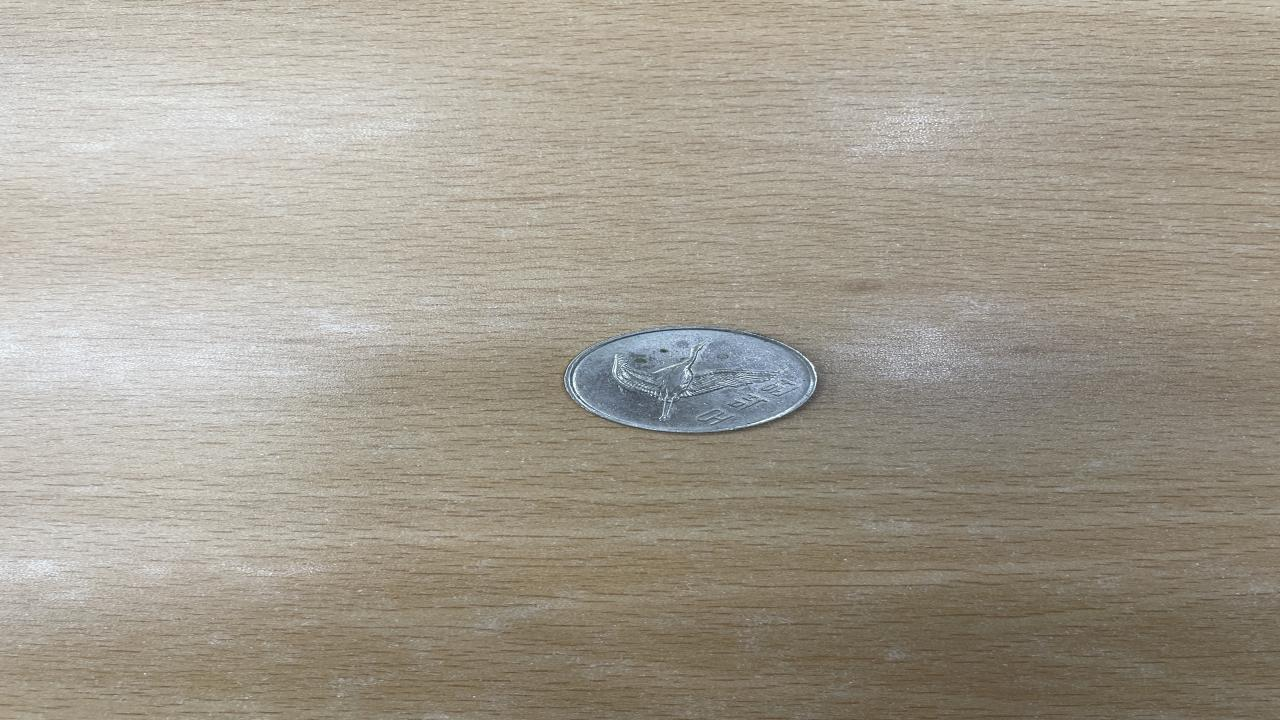coin: (565, 326, 823, 433)
